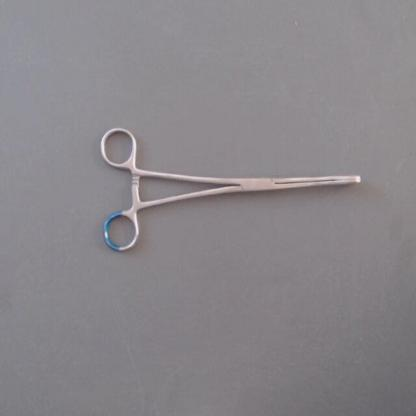Sponge Forceps: (96, 119, 367, 261)
